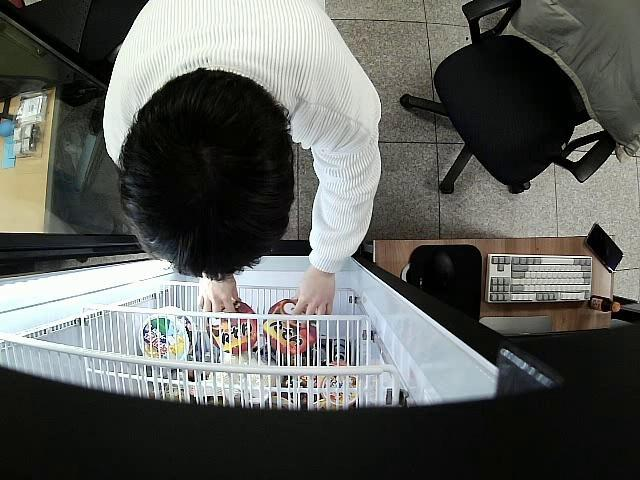05_nuguri_L: (266, 296, 318, 354), (205, 300, 258, 352)
